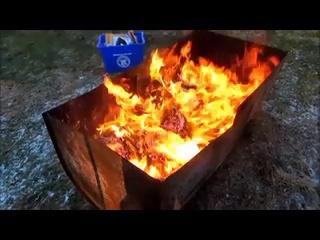fire: (94, 31, 270, 182)
